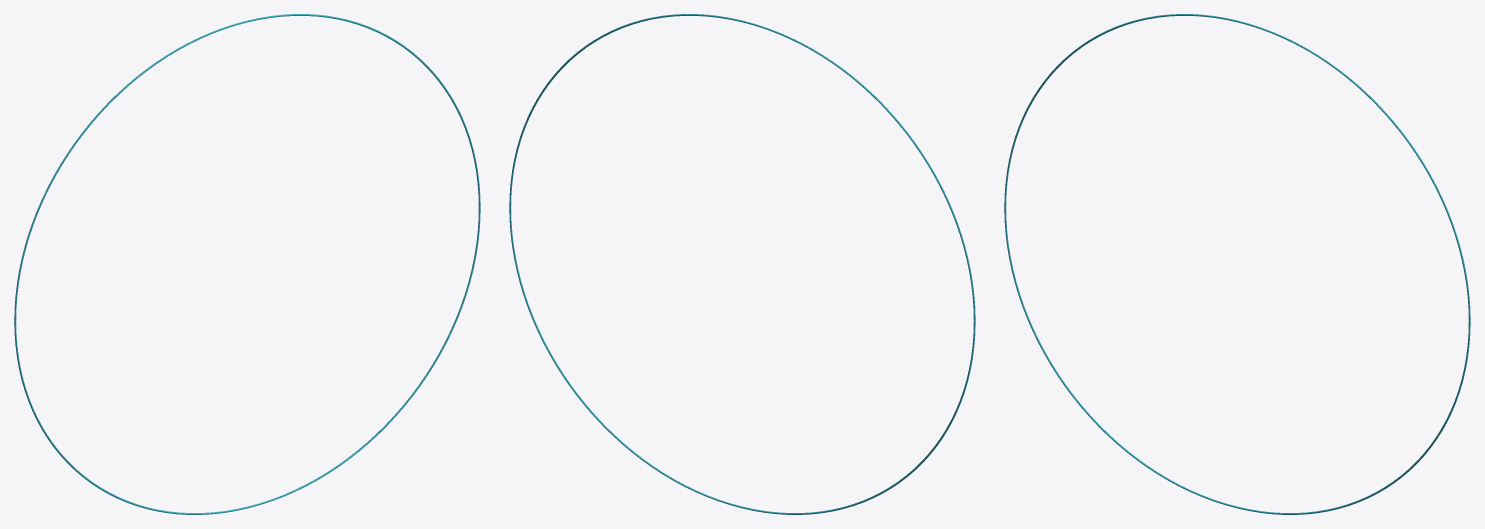
The model's file is circule1.glb.
The picture shows the model from 3 angles, left to right: view 1: azimuth 30°, elevation 25°; view 2: azimuth 150°, elevation 25°; view 3: azimuth 330°, elevation 25°; orthographic projection.
Visible parts, largest first — view 1: Circle1; view 2: Circle1; view 3: Circle1.
Boxes of the visible parts, x1,y1,x2,y2 form: Circle1: [14, 14, 480, 514]; Circle1: [509, 14, 975, 514]; Circle1: [1004, 14, 1470, 514].
Bounding box in the file's own units: 41.84 × 41.84 × 0.1386.
